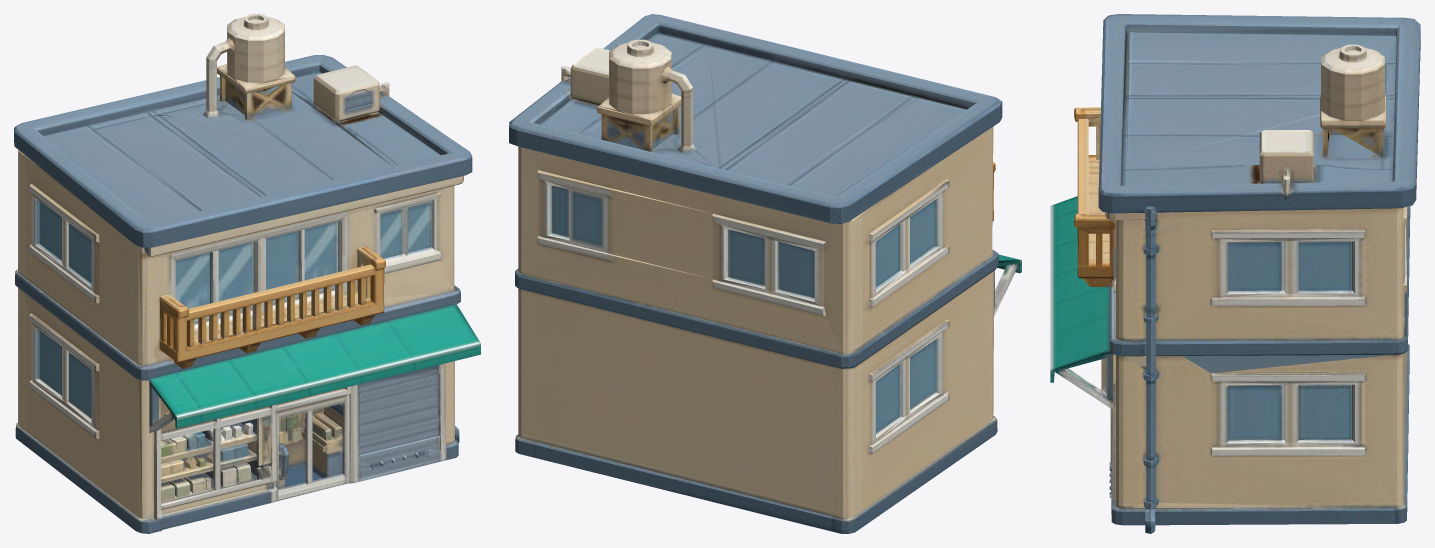
The model's file is corner-BebdNFNM.glb.
The picture shows the model from 3 angles, left to right: view 1: azimuth 30°, elevation 25°; view 2: azimuth 150°, elevation 25°; view 3: azimuth 270°, elevation 25°; orthographic projection. The views are drawn at different scales.
Visible parts, largest first — view 1: tripo_node_4ad55a83-a3a2-4902-944a-f4bc5769f58f; view 2: tripo_node_4ad55a83-a3a2-4902-944a-f4bc5769f58f; view 3: tripo_node_4ad55a83-a3a2-4902-944a-f4bc5769f58f.
Boxes of the visible parts, x1,y1,x2,y2 form: tripo_node_4ad55a83-a3a2-4902-944a-f4bc5769f58f: [14, 14, 480, 533]; tripo_node_4ad55a83-a3a2-4902-944a-f4bc5769f58f: [509, 14, 1021, 533]; tripo_node_4ad55a83-a3a2-4902-944a-f4bc5769f58f: [1050, 14, 1420, 533].
Size of the model in its own units: 0.9052 by 0.9779 by 0.7751.
Materials: 1 (1 with a texture image).
